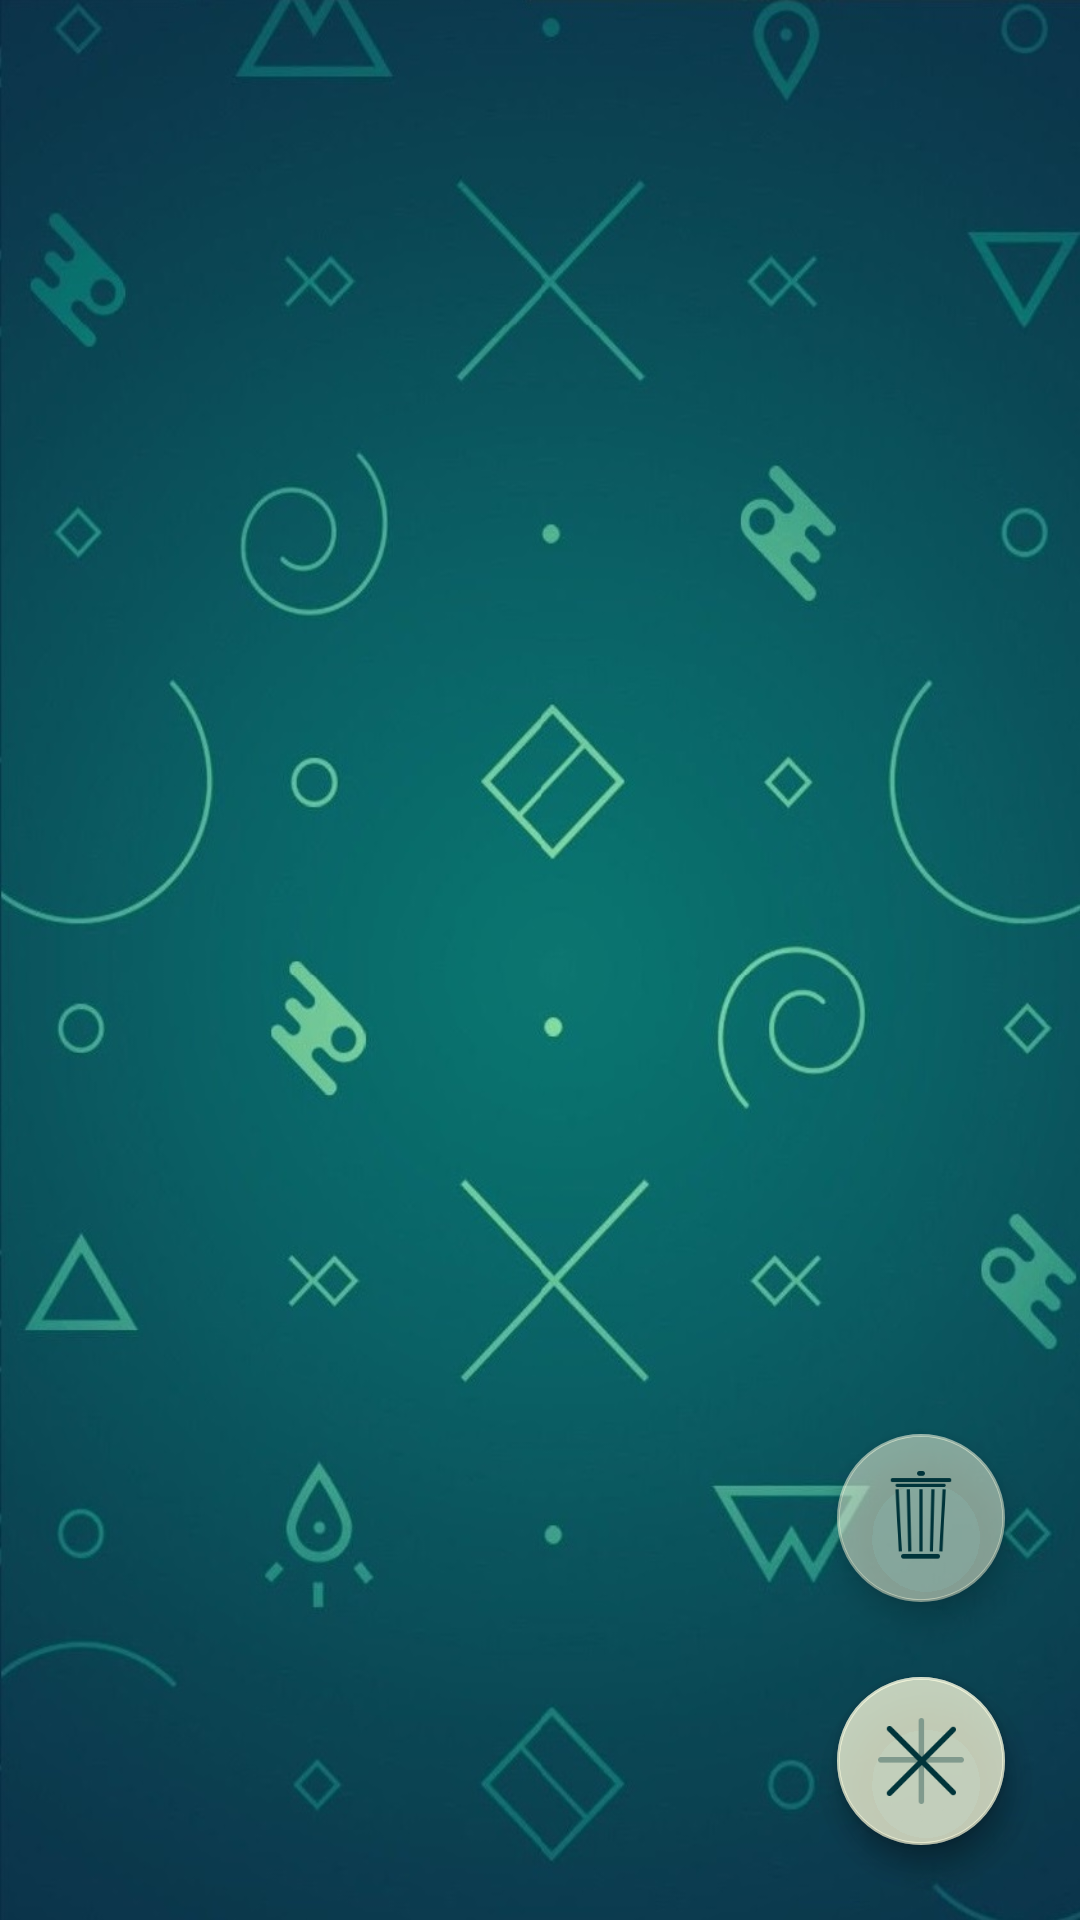

Named icons in this screenshot (1080×1920) and their bounding boxes, (x1, y1, x2, y2):
delete: (837, 1434, 1005, 1602)
